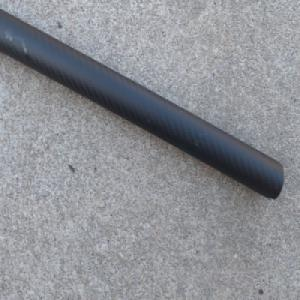LuggagePart: (0, 11, 283, 201)
